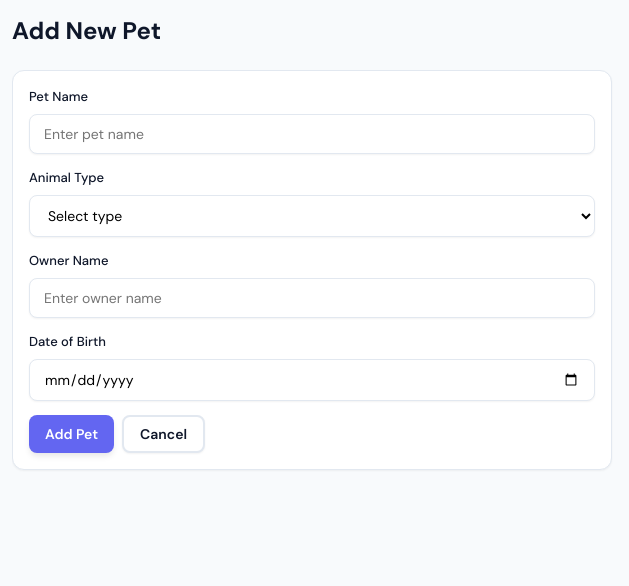
Scenario: PetForm - Validation › should validate owner name field
Step 1. Click the button "Add Pet" → [72, 434], box [29,415,114,453]
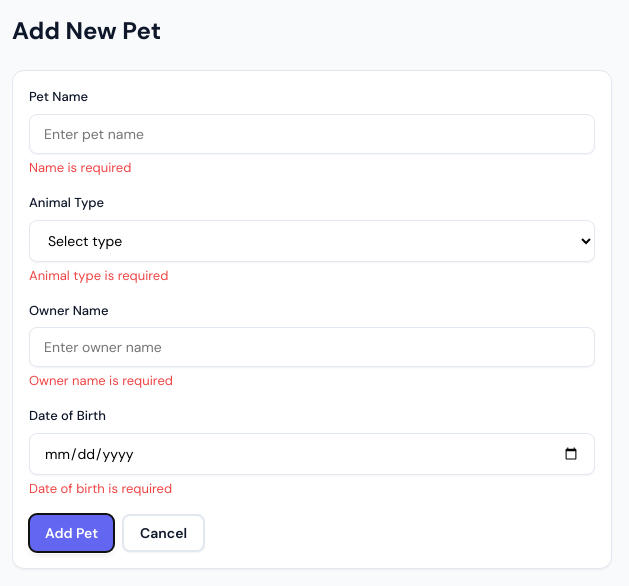
expect the text "Owner name is required" is shown: met, box [29,372,173,390]
Step 2. Type "John Doe" into the field with placeholder "Enter owner name" → [312, 348], box [29,328,595,368]
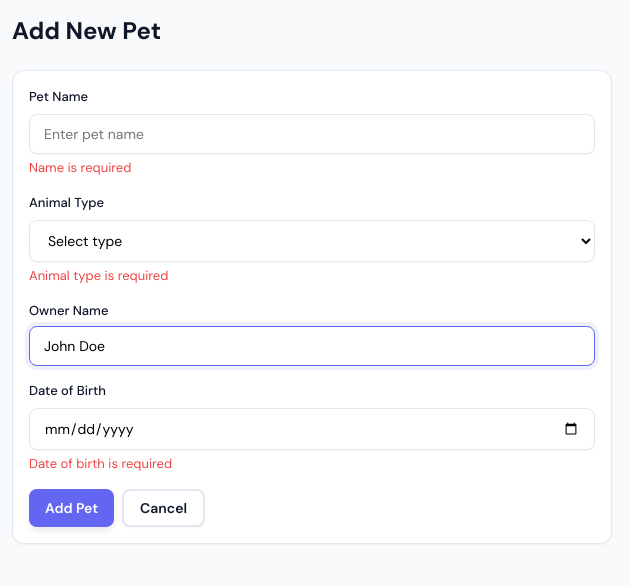
expect the text "Owner name is required" is gone: met
